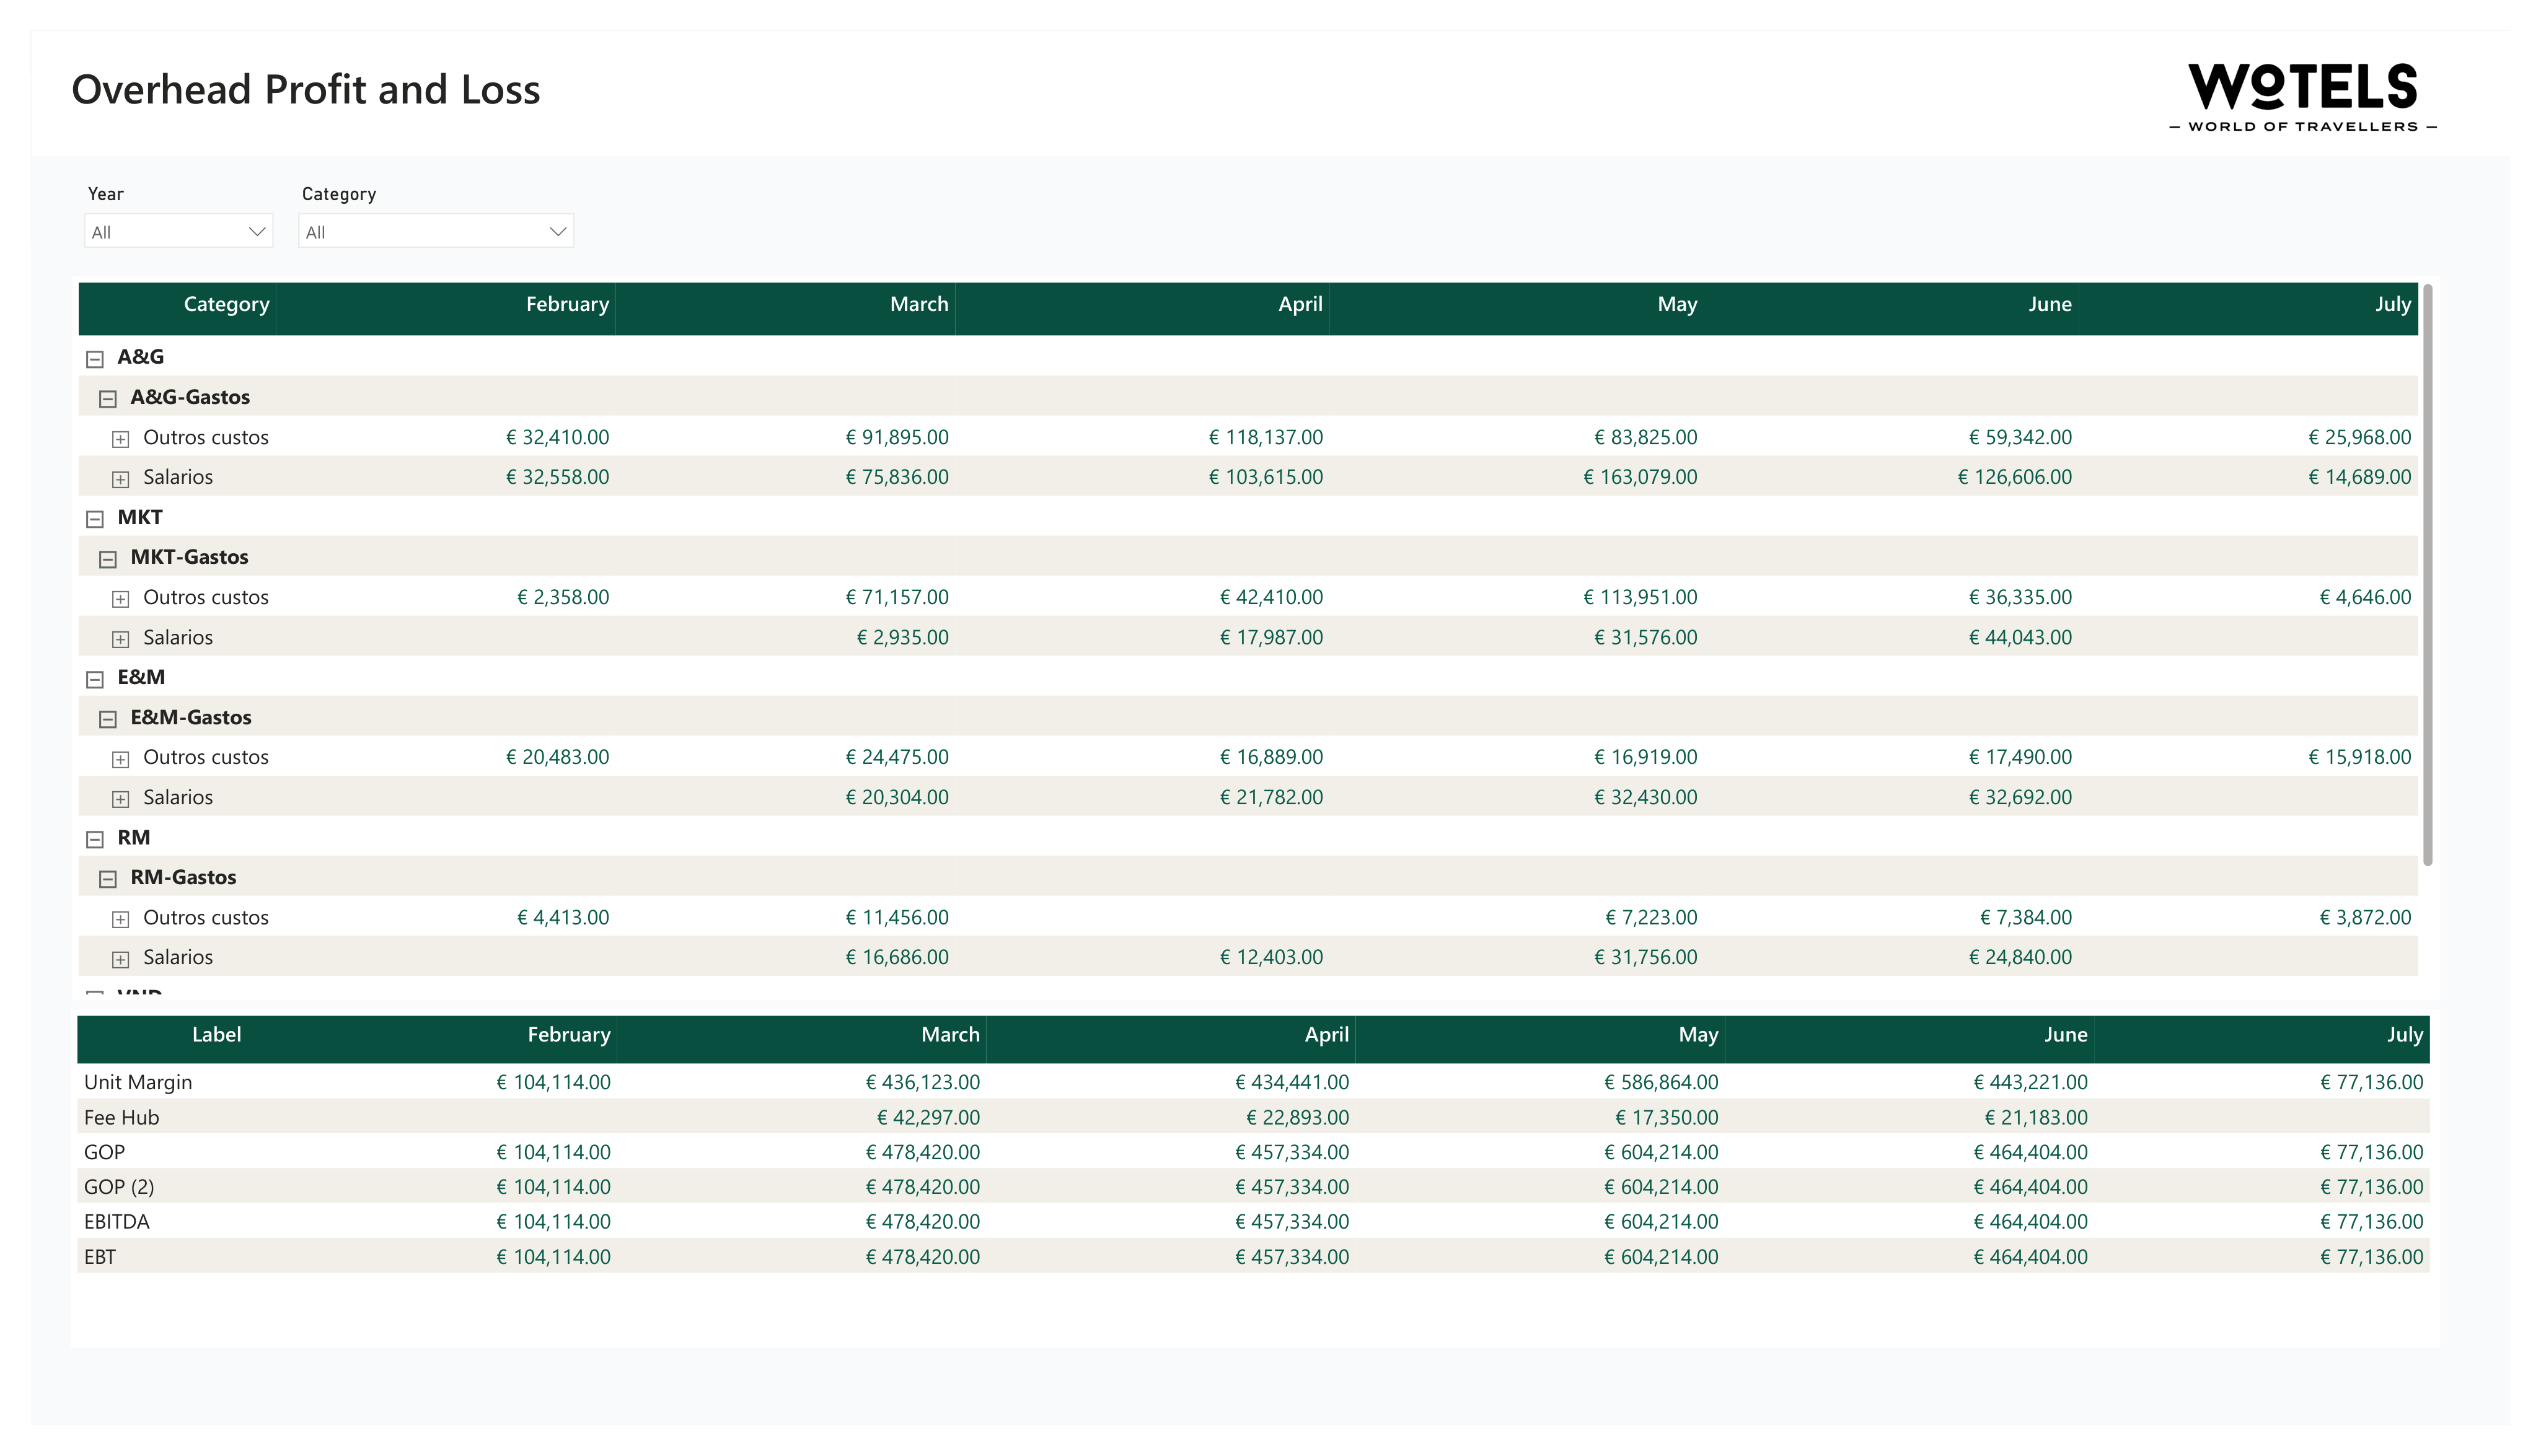

The dashboard page shown, as its layout file describes it:
{"tool":"powerbi","page":{"name":"Overhead P&L","canvas":[1920,1080],"ordinal":3},"visuals":[{"type":"group","id":"g1","title":"Background Shapes","box":[1.2,0,1920.4,96.6],"z":0},{"type":"shape","box":[1.2,0,1920.4,96.6],"z":1000,"group":"g1"},{"type":"pivotTable","fields":{"Columns":["DateTable.Month Name"],"Rows":["Category Sort Table.Category","cost_centers.Sub Category (1)","cost_centers.Sub Category (2)","cost_centers.Sub Category (3)","cost_centers.Sub Category (4)","cost_centers.Cost Center Description","cost_centers.Cost Center ID"],"Values":["KPI_Finance.Actual P&L"]},"box":[31.8,190,1834.5,560.9],"z":1000},{"type":"image","box":[1653.1,0,212.8,96.6],"z":2000,"group":"g1"},{"type":"textbox","box":[25.9,16.1,429.1,62.6],"z":3000,"group":"g1"},{"type":"slicer","fields":{"Values":["Category Sort Table.Category"]},"box":[197.3,112.7,233.6,77.3],"z":3000},{"type":"slicer","fields":{"Values":["DateTable.Date.Variation.Date Hierarchy.Year"]},"box":[31.2,113,166.4,76.4],"z":7000},{"type":"pivotTable","fields":{"Columns":["DateTable.Month Name"],"Rows":["Footer_Table.Label"],"Values":["Footer_Table.Footer_Value"]},"box":[30.9,758.2,1835.5,261.8],"z":8000}]}

Visuals, with their boxes on the page's 1920x1080 design canvas (x1, y1, x2, y2). These are canvas units, not pixel positions in the 2541x1456 screenshot, which may show the page scaled, cropped or inside an application window:
"Background Shapes" group: detection(1, 0, 1922, 97)
shape: detection(1, 0, 1922, 97)
pivotTable - DateTable.Month Name x Category Sort Table.Category: detection(32, 190, 1866, 751)
image: detection(1653, 0, 1866, 97)
textbox: detection(26, 16, 455, 79)
slicer - Category Sort Table.Category: detection(197, 113, 431, 190)
slicer - DateTable.Date.Variation.Date Hierarchy.Year: detection(31, 113, 198, 189)
pivotTable - DateTable.Month Name x Footer_Table.Label: detection(31, 758, 1866, 1020)
